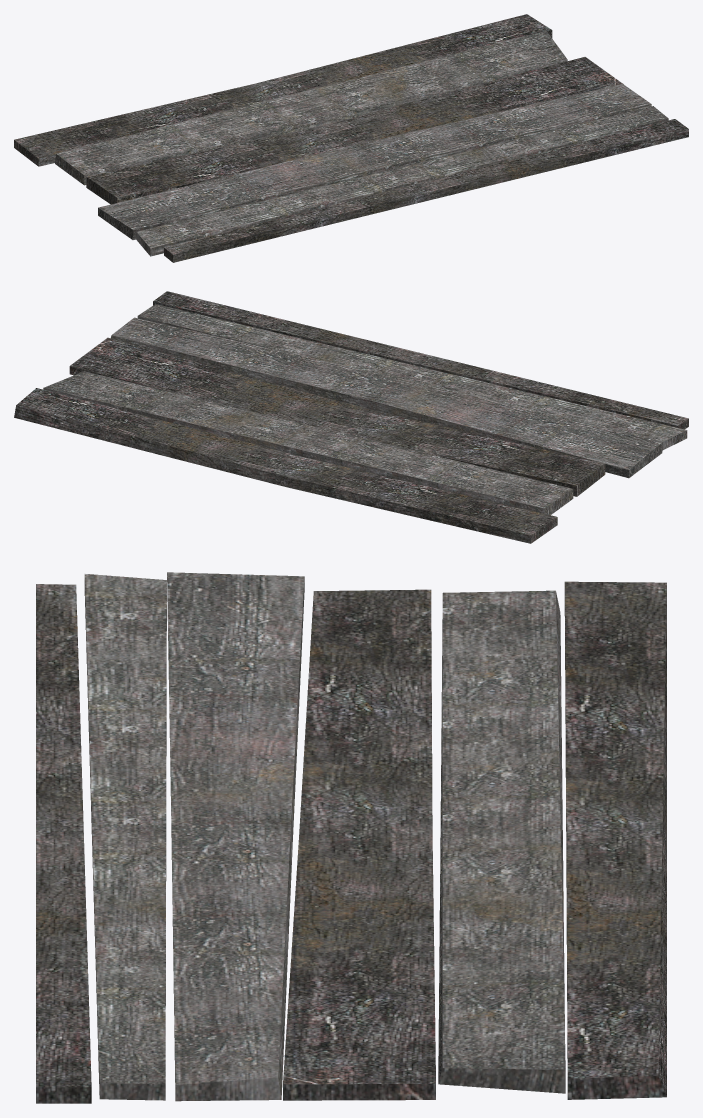
Rendered from SM_short_boards_a.fbx.
3 renders of one model, top to bottom at view 1: azimuth 30°, elevation 25°; view 2: azimuth 150°, elevation 25°; view 3: azimuth 270°, elevation 25°, orthographic. The views are drawn at different scales.
Parts seen in each view (by area): view 1: SM_short_boards_a; view 2: SM_short_boards_a; view 3: SM_short_boards_a.
Boxes of the visible parts, x1,y1,x2,y2 form: SM_short_boards_a: [14, 14, 688, 262]; SM_short_boards_a: [14, 291, 688, 543]; SM_short_boards_a: [36, 572, 666, 1103].
Size of the model in its own units: 363 by 188 by 11.33.
Materials: 1 (1 with a texture image).
